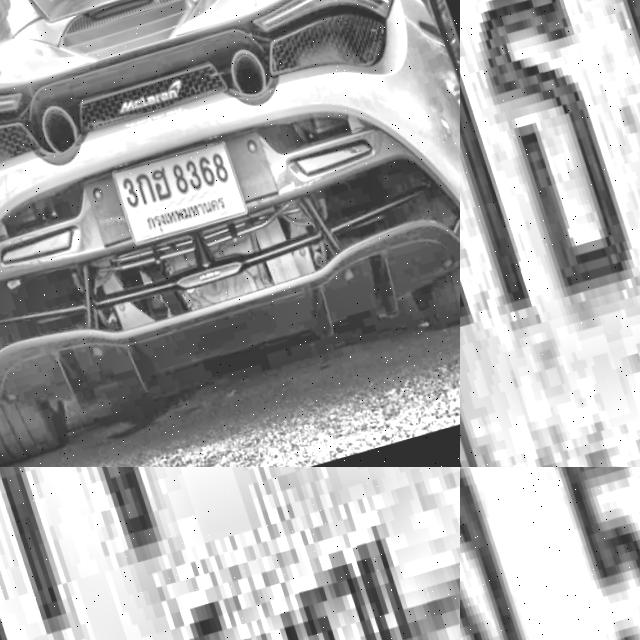license-plate: (460, 0, 640, 467), (0, 467, 460, 640), (460, 467, 640, 640), (101, 135, 244, 245)
